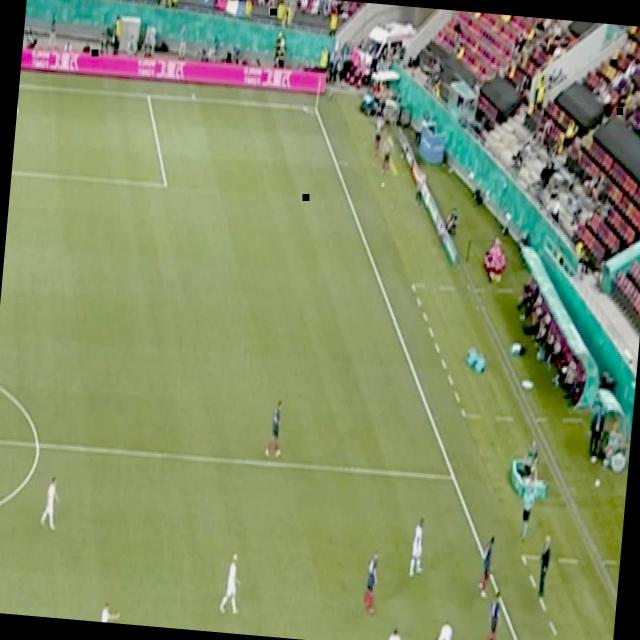ball: (379, 179, 386, 191)
player-white: (217, 549, 246, 617), (407, 515, 430, 583), (476, 532, 498, 602), (263, 398, 287, 462), (39, 474, 63, 534), (361, 546, 381, 618), (516, 481, 538, 545), (480, 587, 506, 640), (97, 597, 123, 624), (429, 617, 457, 640), (386, 624, 405, 640)
